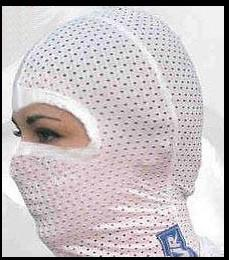OK: (11, 109, 138, 238)
